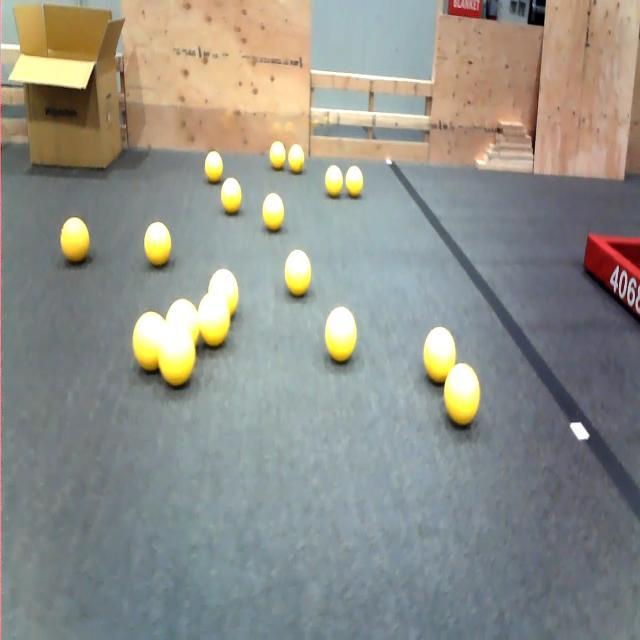fuel: (158, 323, 195, 387), (444, 363, 480, 426), (132, 312, 164, 371), (423, 327, 455, 383), (198, 292, 230, 347), (325, 307, 356, 362), (165, 298, 199, 343), (208, 269, 238, 317), (60, 217, 90, 263), (285, 249, 311, 296), (144, 222, 171, 266), (262, 193, 284, 231), (221, 178, 241, 214), (204, 151, 223, 183), (345, 166, 363, 198), (325, 165, 342, 197), (288, 144, 304, 174), (269, 141, 286, 169)
